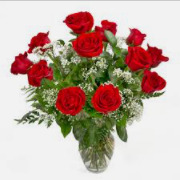RedRose: (92, 81, 122, 114), (72, 29, 104, 57), (56, 86, 85, 116), (61, 8, 95, 33), (28, 30, 55, 57), (9, 48, 32, 78), (142, 71, 170, 95), (125, 45, 152, 69), (31, 61, 56, 85), (92, 17, 116, 42), (147, 42, 169, 67), (124, 25, 143, 47)
